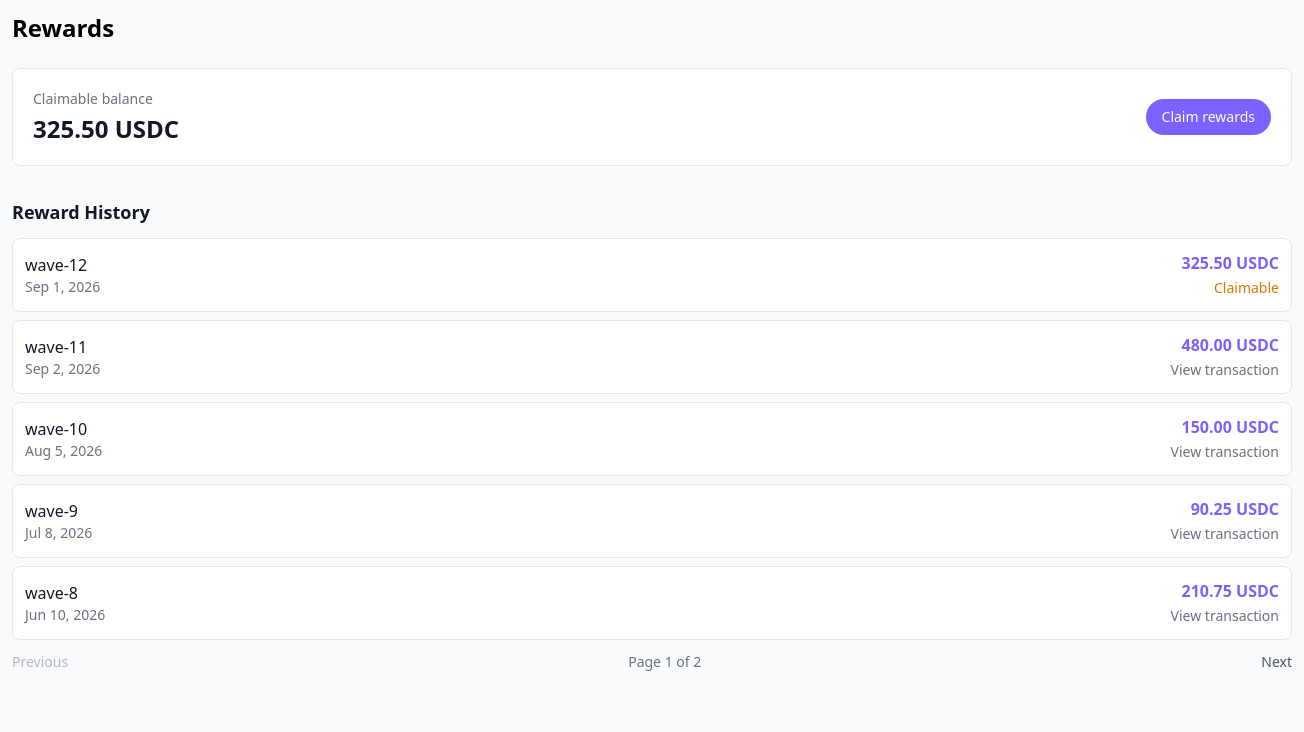
Test: Rewards page › loads the claimable balance and history once connected, and the claim button is a no-op stub
Click the button "Claim rewards": (1208, 117) [1146,99,1271,135]
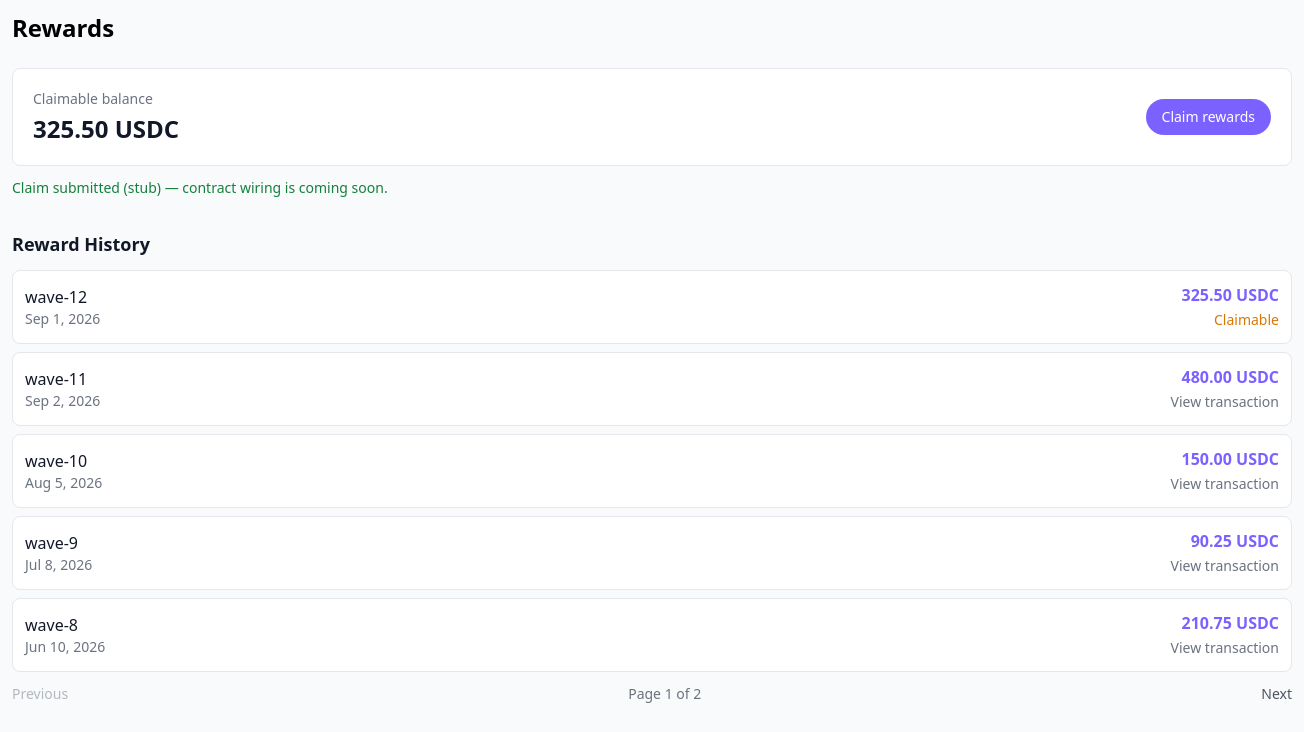
Expected: the text "Claim submitted (stub) — contract wiring is coming soon." is shown, [12,178,388,197]
